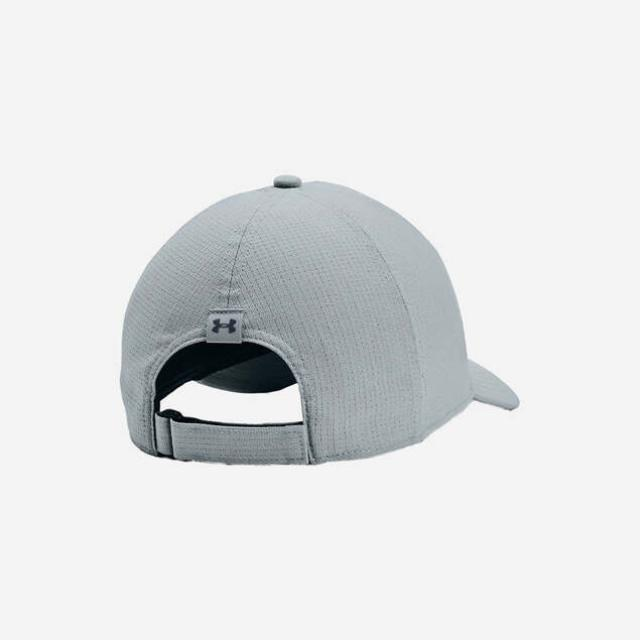Nonhelmet: (116, 171, 521, 469)
